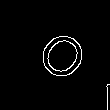O_SW: (22, 22, 88, 88)
